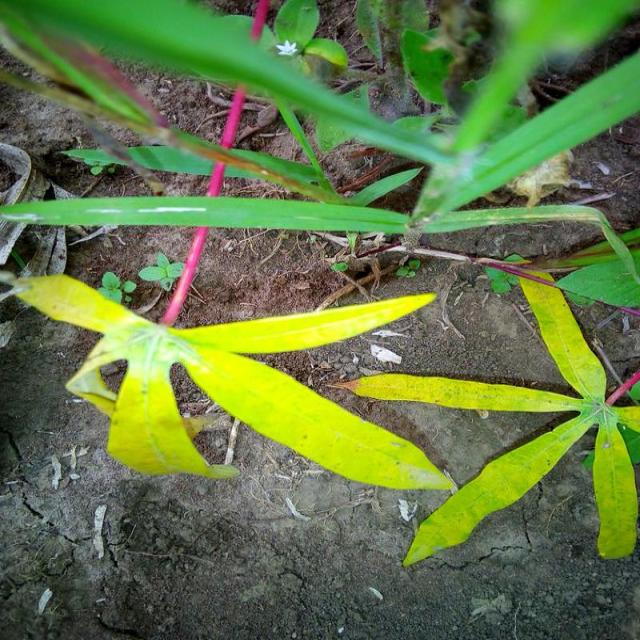cassava leaf: (6, 269, 457, 493), (339, 251, 640, 566)
